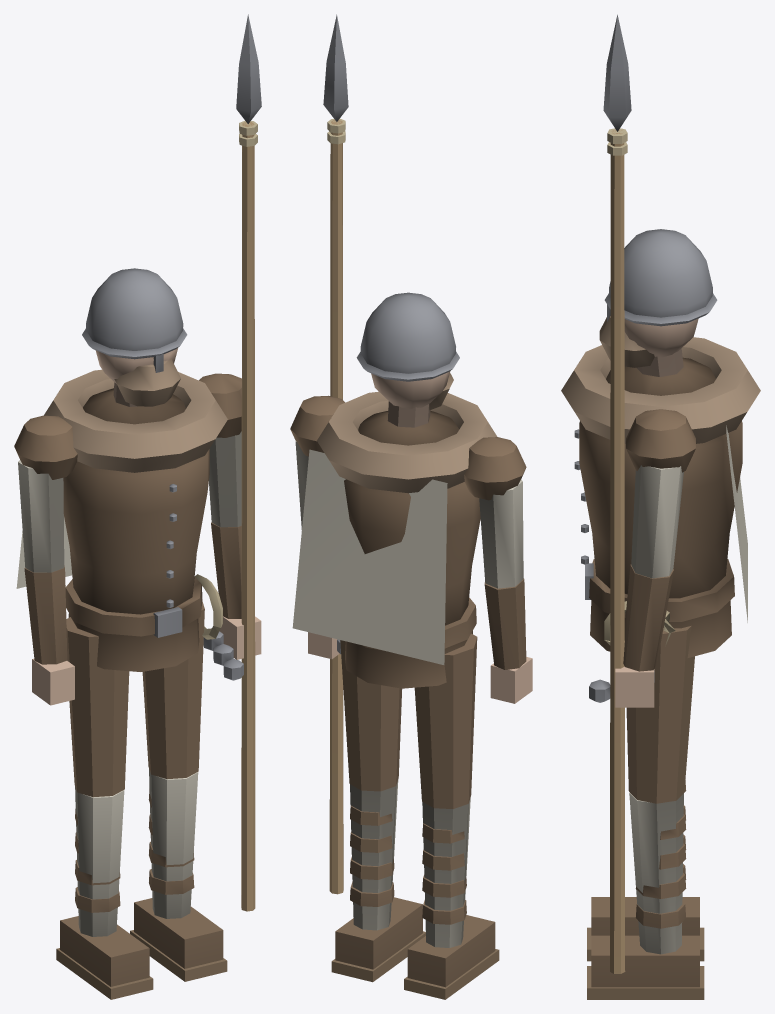
The model's file is dh_hunter.glb.
3 renders of one model, left to right at view 1: azimuth 30°, elevation 25°; view 2: azimuth 150°, elevation 25°; view 3: azimuth 270°, elevation 25°, orthographic. The views are drawn at different scales.
Parts seen in each view (by area): view 1: torso, arm_r, leg_l, leg_r, arm_l; view 2: torso, leg_l, leg_r, arm_r, arm_l; view 3: torso, arm_r, leg_r, leg_l.
Boxes of the visible parts, <box> form: torso: <box>16,268,243,680</box>; arm_r: <box>199,14,261,911</box>; leg_l: <box>56,617,153,999</box>; leg_r: <box>130,601,227,981</box>; arm_l: <box>14,415,77,705</box>; torso: <box>292,292,497,688</box>; leg_l: <box>404,633,499,999</box>; leg_r: <box>331,640,425,982</box>; arm_r: <box>290,14,348,894</box>; arm_l: <box>464,437,532,703</box>; torso: <box>561,229,760,702</box>; arm_r: <box>603,14,695,973</box>; leg_r: <box>587,626,704,999</box>; leg_l: <box>587,780,704,961</box>.
Size of the model in its own units: 0.66 by 2.55 by 0.46.
